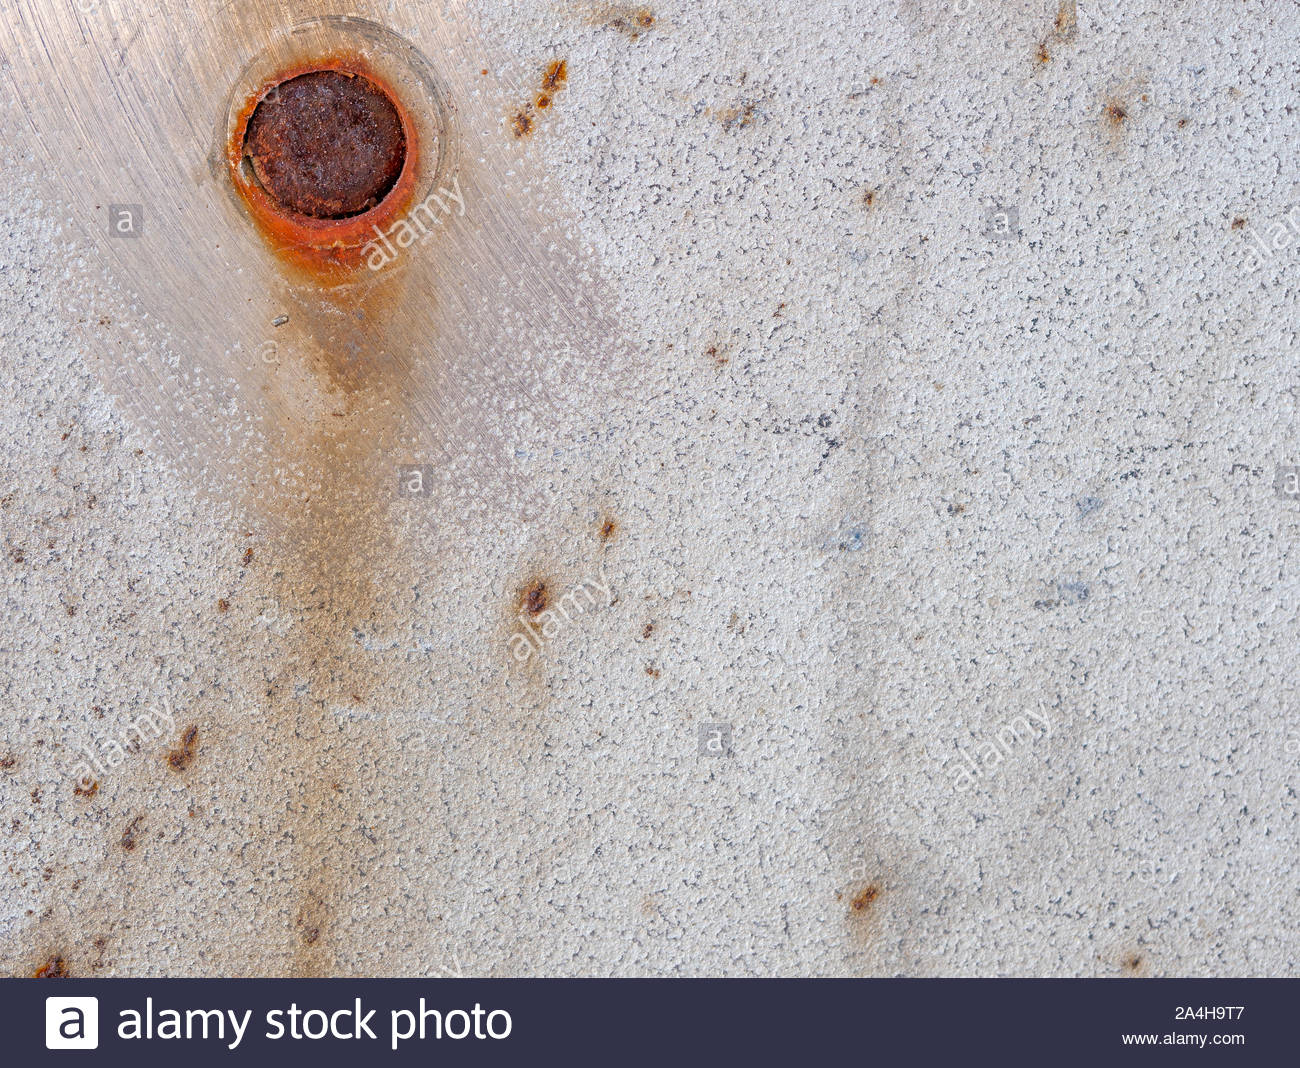rust: (228, 60, 438, 285)
